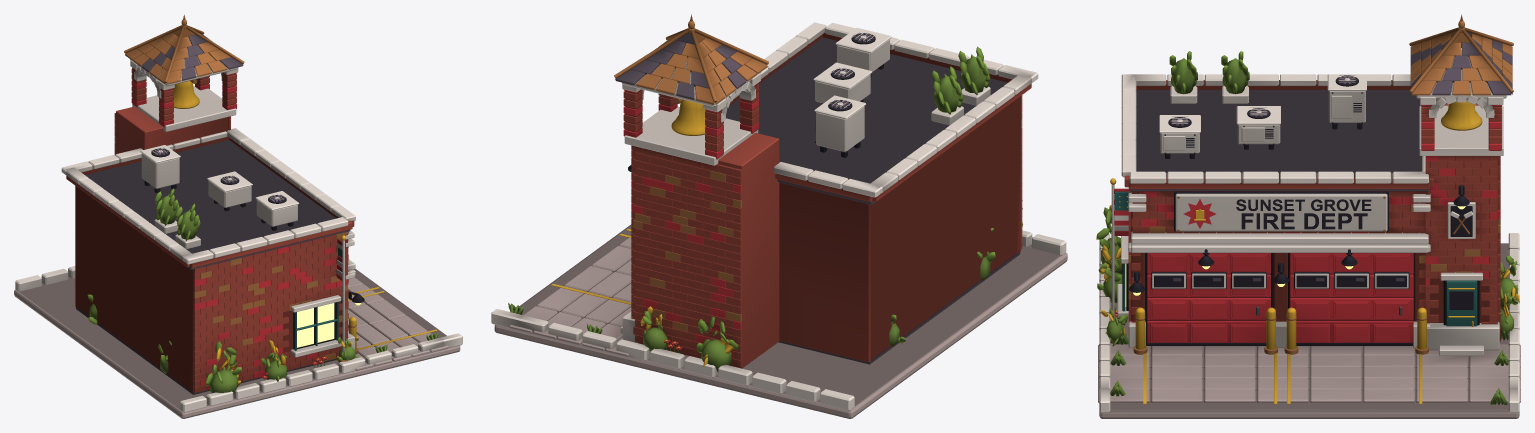
3 views of the same model, side by side, from view 1: azimuth 30°, elevation 25°; view 2: azimuth 150°, elevation 25°; view 3: azimuth 270°, elevation 25° (orthographic). The views are drawn at different scales.
Parts seen in each view (by area): view 1: root_pal_brick, root_pal_sidewalk, roof_pal_asphalt, roof_pal_picketWhite, root_pal_picketWhite, roof_pal_woodWarm, root_pal_survivorRed, root_pal_woodWarm, root_pal_grass, root_emi_windowGlow, root_pal_foliage, root_pal_schoolBusYellow (+6 smaller); view 2: root_pal_brick, root_pal_sidewalk, roof_pal_asphalt, roof_pal_picketWhite, root_pal_picketWhite, roof_pal_woodWarm, root_pal_survivorRed, root_pal_woodWarm, root_pal_grass, roof_pal_foliage, roof_pal_grass, bell_pal_schoolBusYellow (+4 smaller); view 3: root_pal_sidewalk, root_pal_picketWhite, roof_pal_asphalt, root_pal_brick, roof_pal_picketWhite, door_bay_L_pal_survivorRed, door_bay_R_pal_survivorRed, roof_pal_woodWarm, root_pal_uiDark, root_pal_schoolBusYellow, root_pal_survivorRed, door_bay_L_pal_uiDark (+13 smaller).
Part boxes in pixels (x1,y1,x2,y2): root_pal_brick: [66, 68, 354, 393]; root_pal_sidewalk: [14, 268, 460, 418]; roof_pal_asphalt: [85, 33, 350, 269]; roof_pal_picketWhite: [61, 44, 355, 264]; root_pal_picketWhite: [15, 60, 462, 412]; roof_pal_woodWarm: [124, 15, 244, 84]; root_pal_survivorRed: [114, 67, 348, 389]; root_pal_woodWarm: [114, 79, 358, 362]; root_pal_grass: [89, 304, 438, 394]; root_emi_windowGlow: [297, 303, 334, 347]; root_pal_foliage: [87, 294, 357, 386]; root_pal_schoolBusYellow: [216, 235, 437, 385]; root_pal_brick: [623, 33, 1031, 368]; root_pal_sidewalk: [494, 224, 1067, 418]; roof_pal_asphalt: [615, 33, 1007, 204]; roof_pal_picketWhite: [621, 22, 1038, 197]; root_pal_picketWhite: [491, 73, 1066, 410]; roof_pal_woodWarm: [614, 14, 768, 104]; root_pal_survivorRed: [623, 82, 1022, 358]; root_pal_woodWarm: [633, 98, 1022, 340]; root_pal_grass: [508, 256, 990, 371]; roof_pal_foliage: [931, 46, 990, 114]; roof_pal_grass: [935, 56, 986, 112]; bell_pal_schoolBusYellow: [671, 100, 705, 135]; root_pal_sidewalk: [1098, 243, 1520, 418]; root_pal_picketWhite: [1099, 95, 1519, 412]; roof_pal_asphalt: [1129, 32, 1512, 191]; root_pal_brick: [1124, 80, 1501, 341]; roof_pal_picketWhite: [1121, 49, 1507, 183]; door_bay_L_pal_survivorRed: [1147, 253, 1270, 342]; door_bay_R_pal_survivorRed: [1290, 253, 1413, 342]; roof_pal_woodWarm: [1409, 14, 1513, 95]; root_pal_uiDark: [1126, 191, 1479, 325]; root_pal_schoolBusYellow: [1100, 178, 1519, 403]; root_pal_survivorRed: [1114, 105, 1501, 322]; door_bay_L_pal_uiDark: [1145, 253, 1272, 345].
Bounding box in the file's own units: 11.69 × 10.48 × 12.34.
